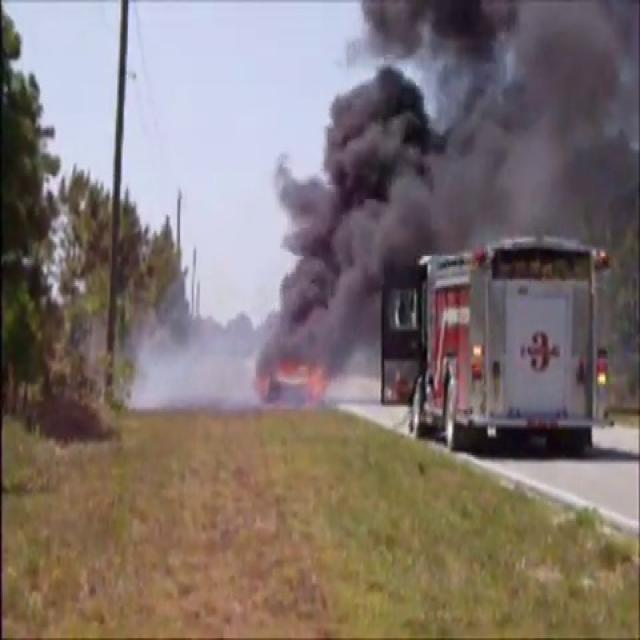Smoke: (250, 0, 638, 375), (248, 14, 426, 384), (133, 315, 268, 413)
